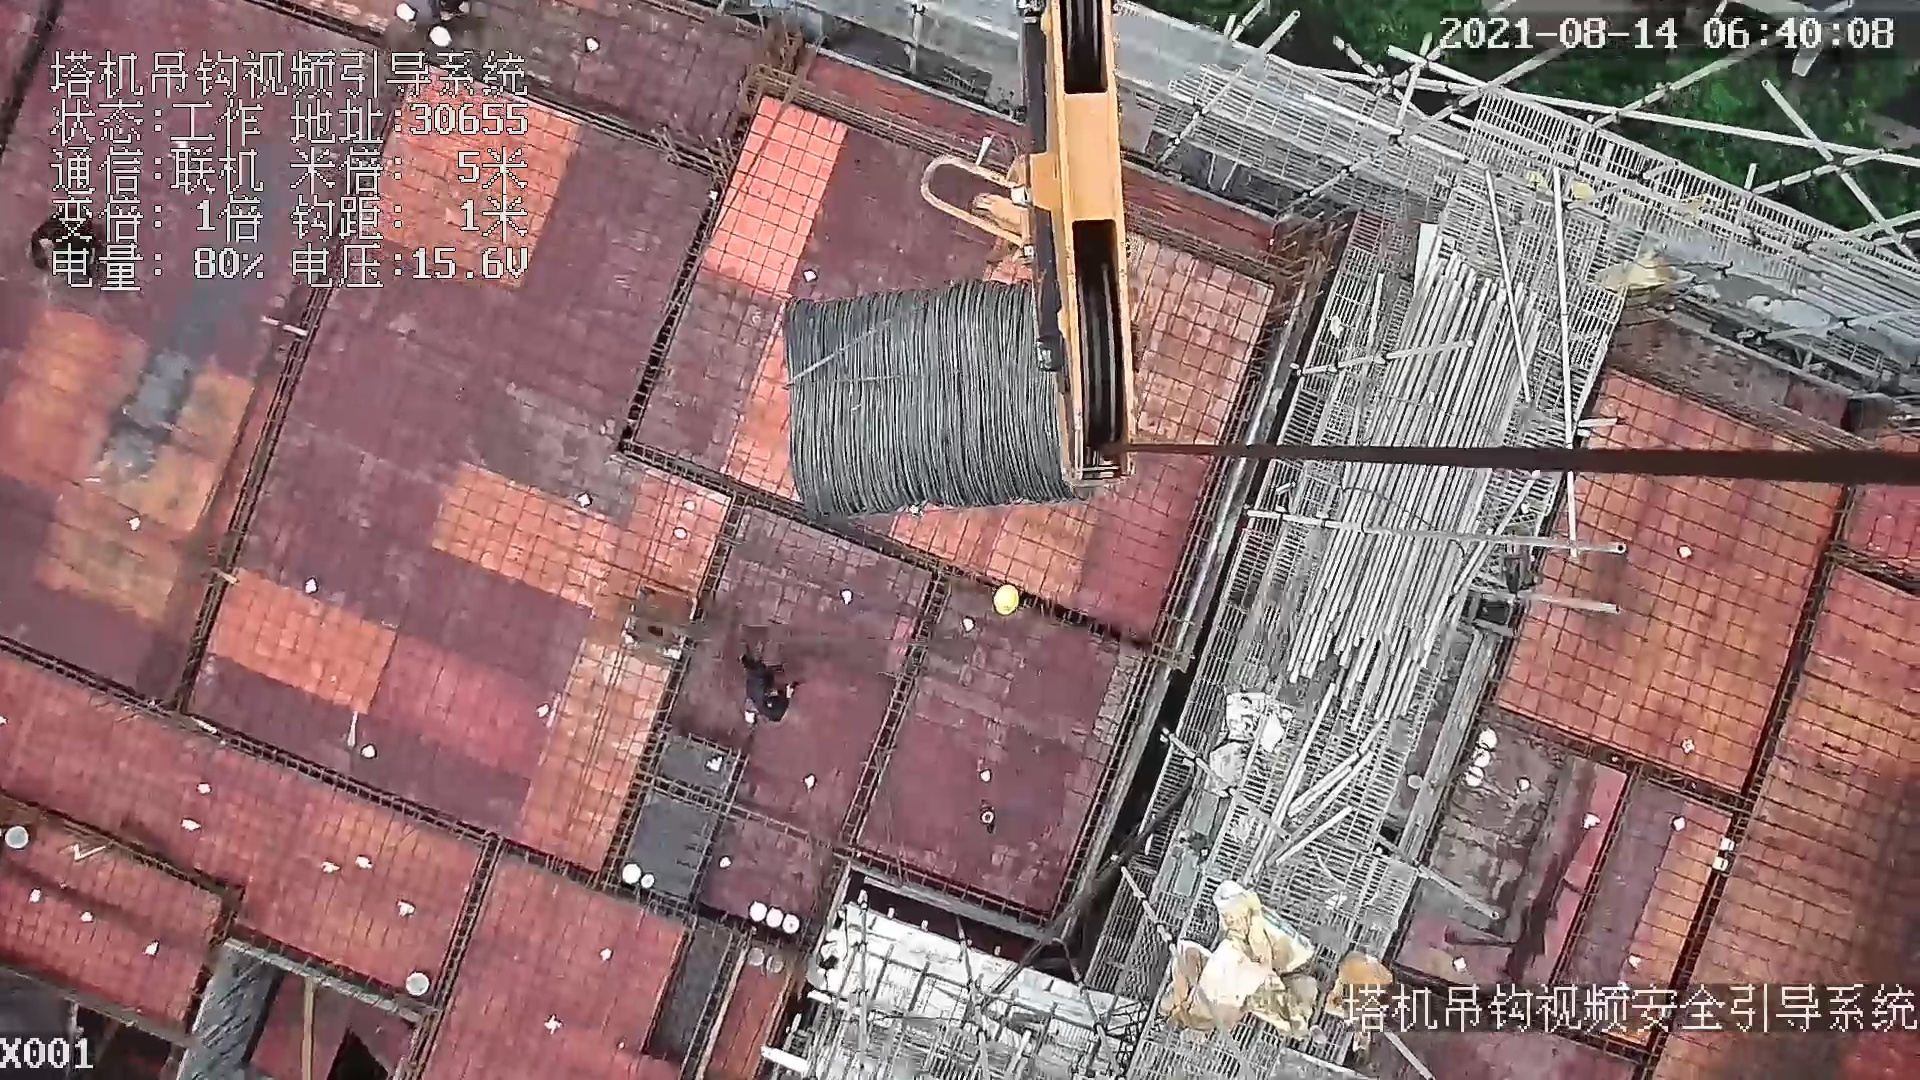helmet: (993, 586, 1017, 616)
hook: (922, 1, 1138, 490)
person: (26, 218, 118, 285), (732, 641, 797, 733), (381, 1, 462, 63)
